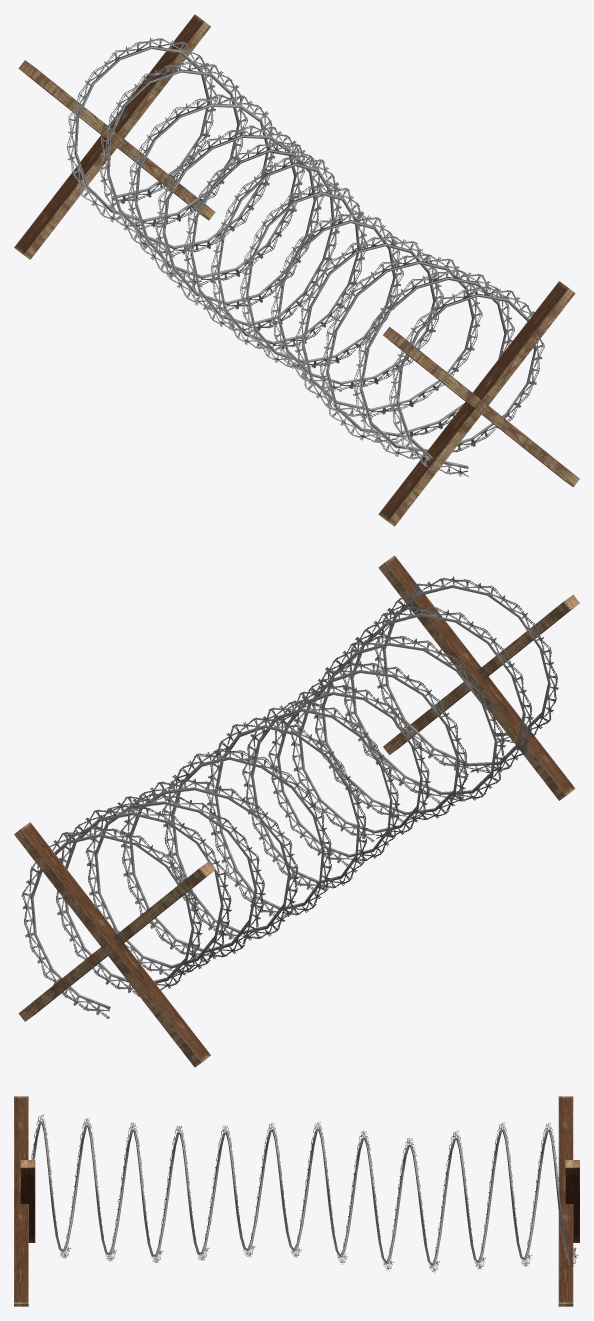
File: alambre.fbx
3 views of the same model, one above another, from view 1: azimuth 30°, elevation 25°; view 2: azimuth 150°, elevation 25°; view 3: azimuth 270°, elevation 25° (orthographic). The views are drawn at different scales.
Parts seen in each view (by area): view 1: Sandbags_Wire; view 2: Sandbags_Wire; view 3: Sandbags_Wire.
Boxes of the visible parts, box(x1,y1,x2,y2) form: Sandbags_Wire: box(14, 14, 579, 526); Sandbags_Wire: box(14, 555, 579, 1067); Sandbags_Wire: box(14, 1096, 579, 1306).
Size of the model in its own units: 90.59 by 92.57 by 310.
Materials: 1 (1 with a texture image).
